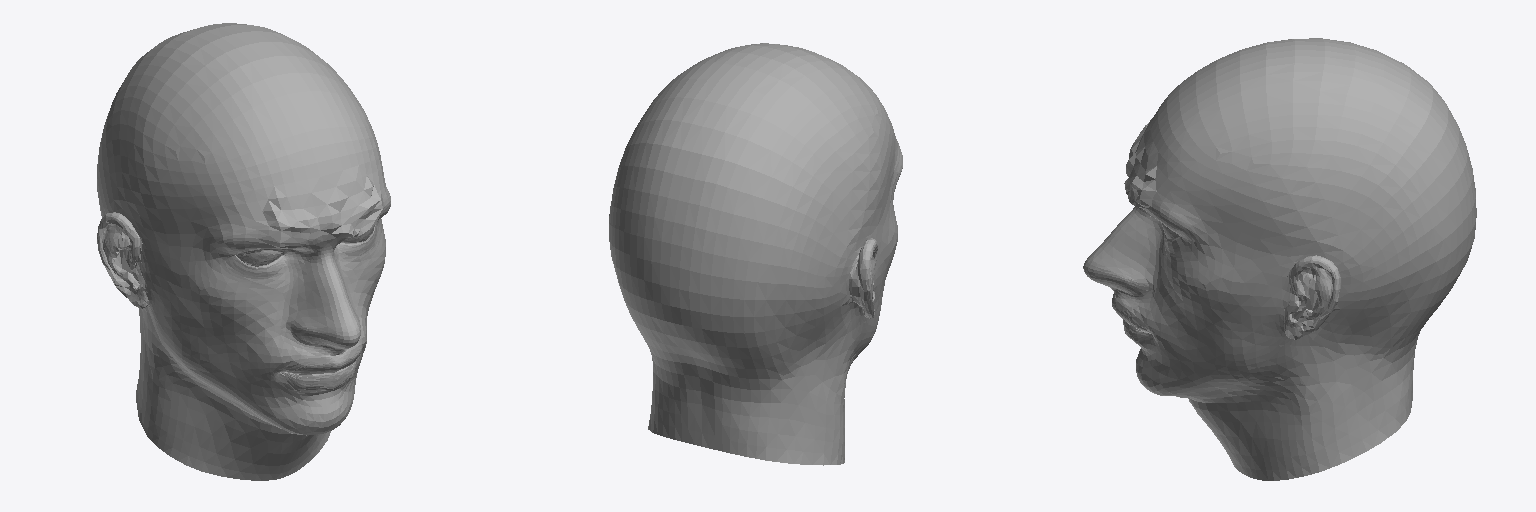
The model's file is Guy1.obj.
3 renders of one model, left to right at view 1: azimuth 30°, elevation 25°; view 2: azimuth 150°, elevation 25°; view 3: azimuth 270°, elevation 25°, orthographic.
Parts seen in each view (by area): view 1: HeadHires; view 2: HeadHires; view 3: HeadHires.
Part boxes in pixels (left/top/right/bottom): HeadHires: left=97, top=23, right=390, bottom=480; HeadHires: left=609, top=43, right=902, bottom=465; HeadHires: left=1083, top=38, right=1476, bottom=480.
Bounding box in the file's own units: 188 × 283 × 245.